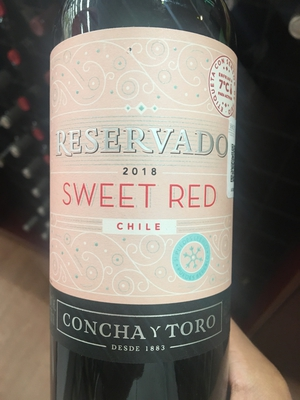reservado sweet red: (43, 18, 246, 400)
